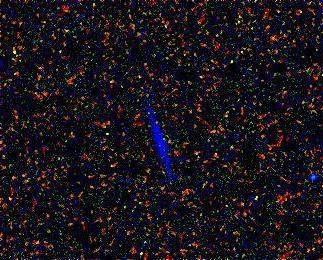star: (153, 130, 183, 160)
